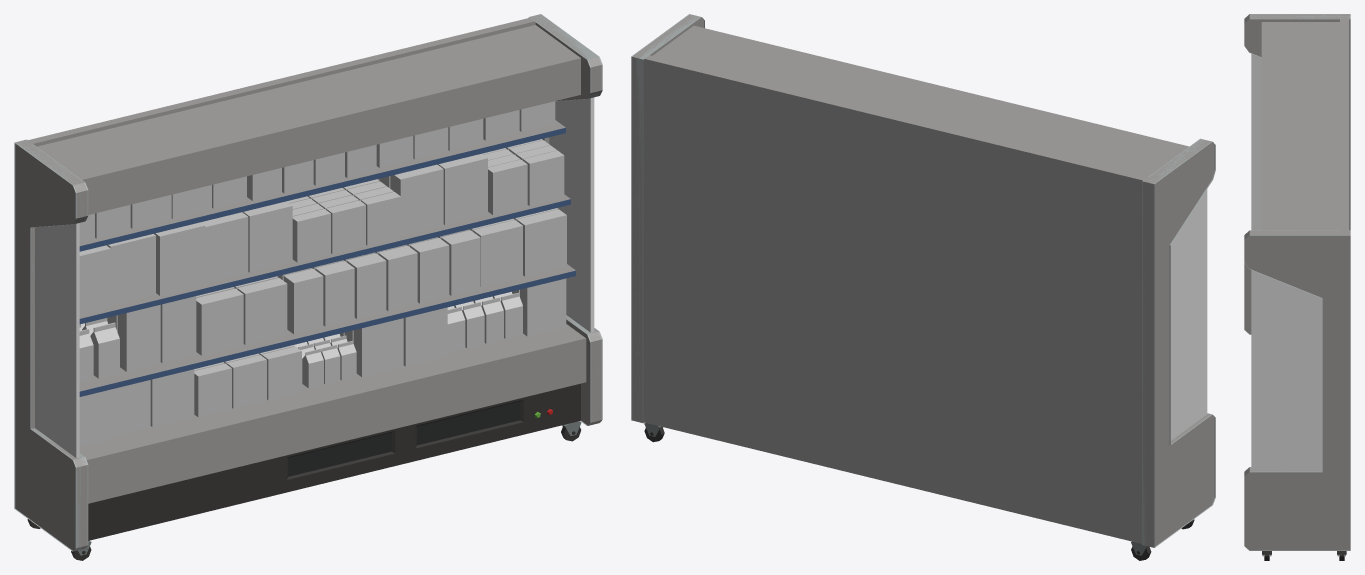
File: SM_Props_Interior_SuperMarket_Display_Large_Preset_01.fbx
3 views of the same model, side by side, from view 1: azimuth 30°, elevation 25°; view 2: azimuth 150°, elevation 25°; view 3: azimuth 270°, elevation 25° (orthographic). The views are drawn at different scales.
Visible parts, largest first — view 1: SM_Props_Interior_SuperMarket_Display_Large_Preset_01, SM_Props_Interior_SuperMarket_Display_Large_Preset_01_Produc; view 2: SM_Props_Interior_SuperMarket_Display_Large_Preset_01; view 3: SM_Props_Interior_SuperMarket_Display_Large_Preset_01.
Boxes of the visible parts, box(x1,y1,x2,y2) form: SM_Props_Interior_SuperMarket_Display_Large_Preset_01: box(14, 14, 602, 560); SM_Props_Interior_SuperMarket_Display_Large_Preset_01_Produc: box(79, 101, 566, 446); SM_Props_Interior_SuperMarket_Display_Large_Preset_01: box(631, 14, 1215, 560); SM_Props_Interior_SuperMarket_Display_Large_Preset_01: box(1244, 14, 1350, 560).
Bounding box in the file's own units: 301 × 211 × 61.
